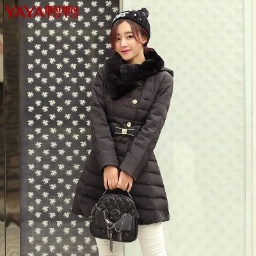face: (107, 13, 156, 65)
